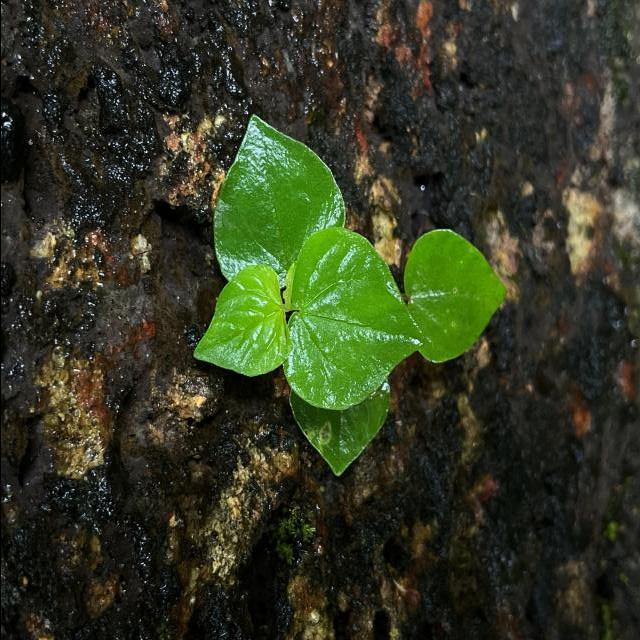Peperomia pellucida: (279, 224, 426, 412), (208, 109, 346, 296), (189, 262, 295, 379)
